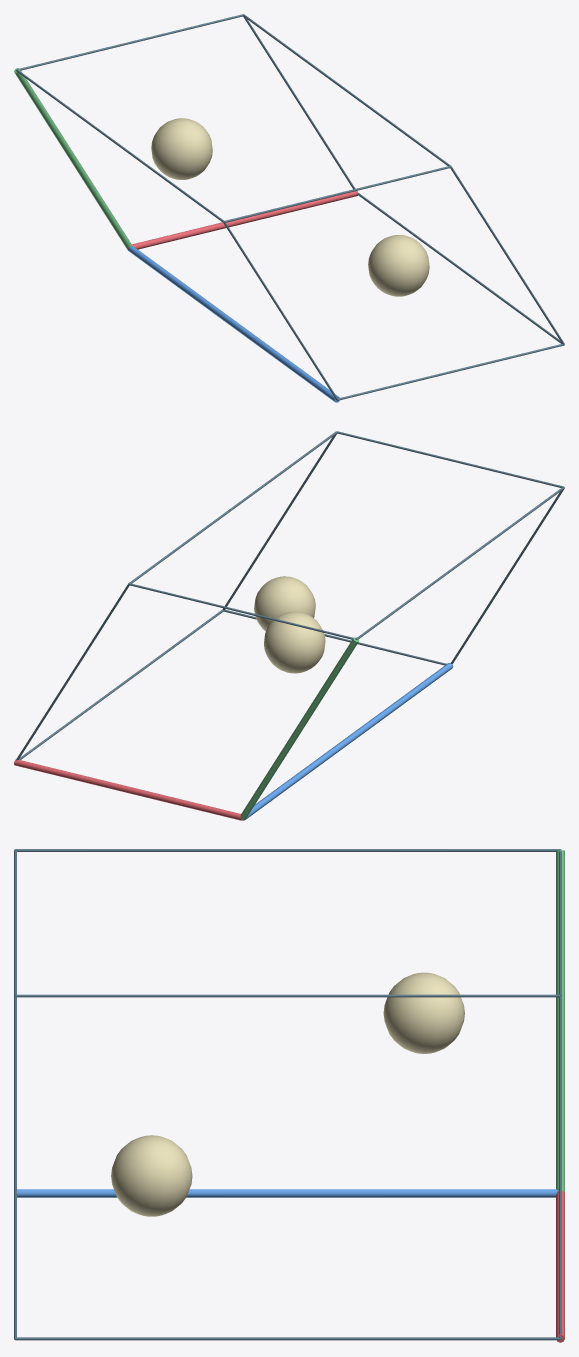
Rendered from nguyen-to-ru.glb.
3 renders of one model, top to bottom at view 1: azimuth 30°, elevation 25°; view 2: azimuth 150°, elevation 25°; view 3: azimuth 270°, elevation 25°, orthographic. The views are drawn at different scales.
Parts seen in each view (by area): view 1: Ô mạng và các trục a, b, c, Ru · Ru · 1 (×2); view 2: Ô mạng và các trục a, b, c, Ru · Ru · 1 (×2); view 3: Ô mạng và các trục a, b, c, Ru · Ru · 1 (×2).
Part boxes in pixels (bbox=[...]): Ô mạng và các trục a, b, c: bbox=[14, 14, 564, 402]; Ru · Ru · 1 (×2): bbox=[151, 118, 429, 296]; Ô mạng và các trục a, b, c: bbox=[14, 431, 564, 820]; Ru · Ru · 1 (×2): bbox=[254, 576, 325, 673]; Ô mạng và các trục a, b, c: bbox=[14, 849, 564, 1342]; Ru · Ru · 1 (×2): bbox=[111, 972, 464, 1216].
Bounding box in the file's own units: 4.1 × 2.39 × 4.33.
